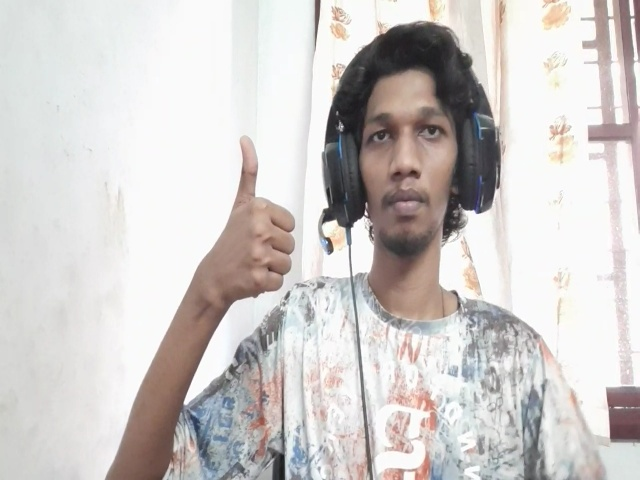ThumbsUp: (202, 136, 296, 297)
